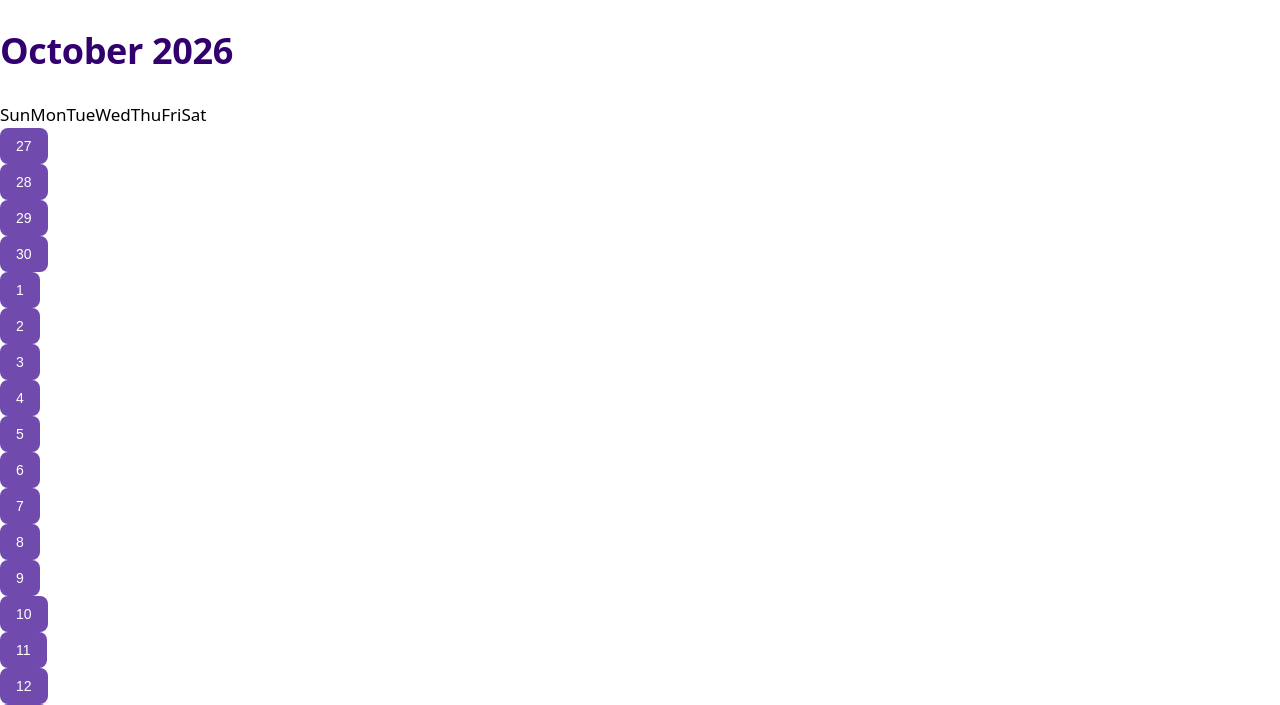
Test: MonthCard › day cells › shows the events of the months either side, when the grid carries them
The width and height of the screenshot is (1280, 705).
Click the button "September Mixer". click: (117, 218)
box: [48, 200, 186, 236]
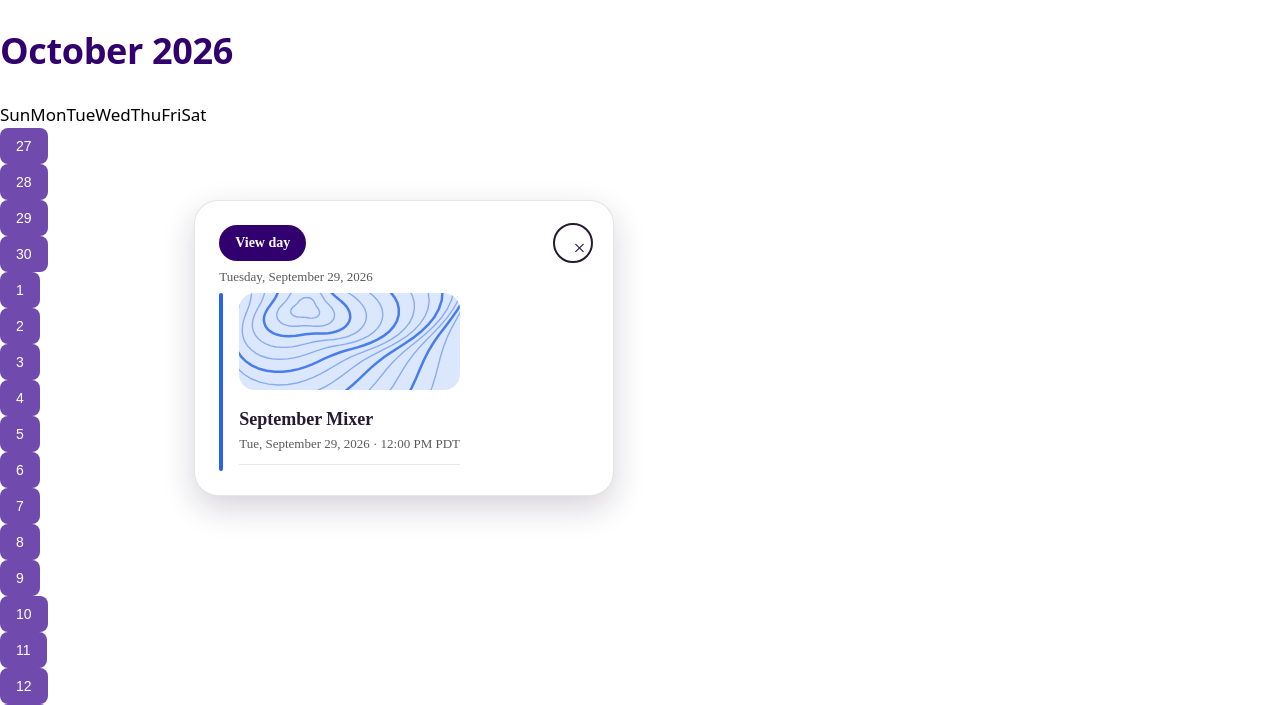
Expected: the dialog "September Mixer" is shown, [194, 200, 614, 496]
